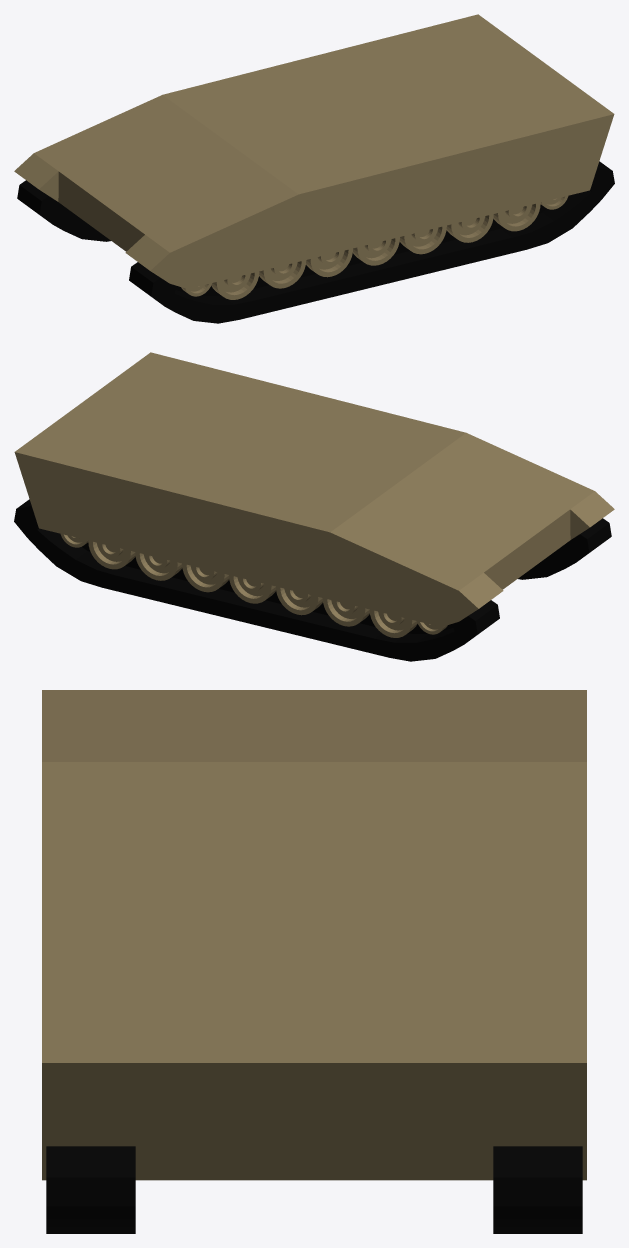
The model's file is tank bottom.fbx.
3 renders of one model, top to bottom at view 1: azimuth 30°, elevation 25°; view 2: azimuth 150°, elevation 25°; view 3: azimuth 270°, elevation 25°, orthographic. The views are drawn at different scales.
Parts seen in each view (by area): view 1: Tank Bottom; view 2: Tank Bottom; view 3: Tank Bottom.
Boxes of the visible parts, bbox=[...] form: Tank Bottom: bbox=[14, 14, 614, 323]; Tank Bottom: bbox=[14, 352, 614, 661]; Tank Bottom: bbox=[42, 690, 586, 1233].
Bounding box in the file's own units: 216 × 51.16 × 109.
